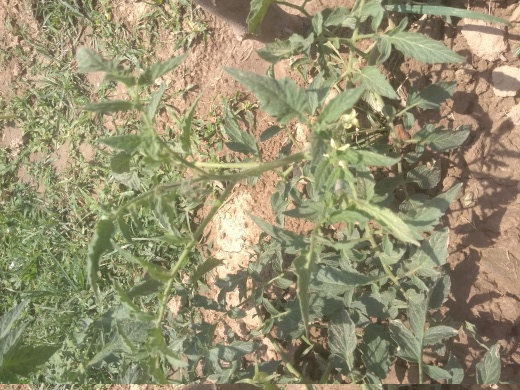tomato plant: (109, 55, 439, 379), (306, 9, 493, 374)
